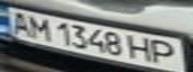1: (48, 19, 72, 46)
3: (66, 22, 90, 51)
4: (87, 26, 106, 54)
8: (103, 29, 127, 57)
A: (3, 9, 33, 36)
H: (127, 34, 157, 62)
M: (24, 15, 54, 42)
P: (148, 37, 184, 66)
